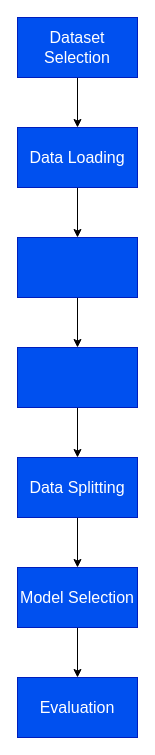
The diagram is 155 pixels wide and 755 high, and some of its shapes have lost their labels. The shapes that lost their labels are listed below. From the top down, each one's centre as x and y in pixels, then its label:
At [77,267]: "Data Preprocessing".
At [77,377]: "Feature Selection".
